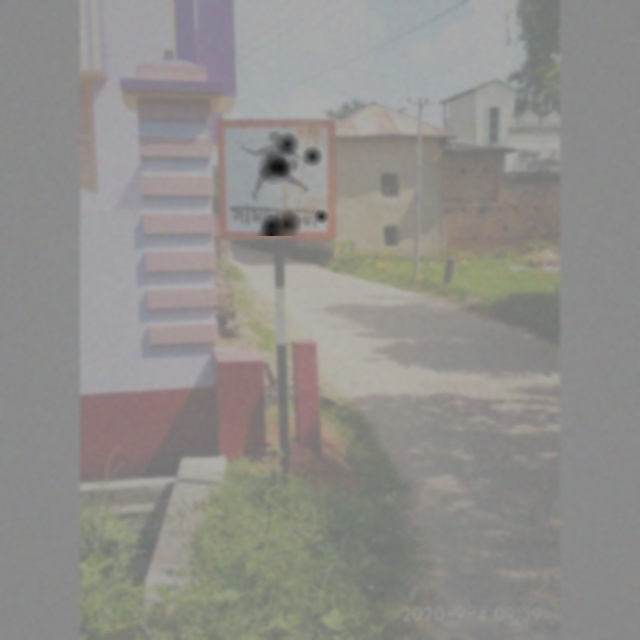School_Ahead: (224, 120, 334, 236)
